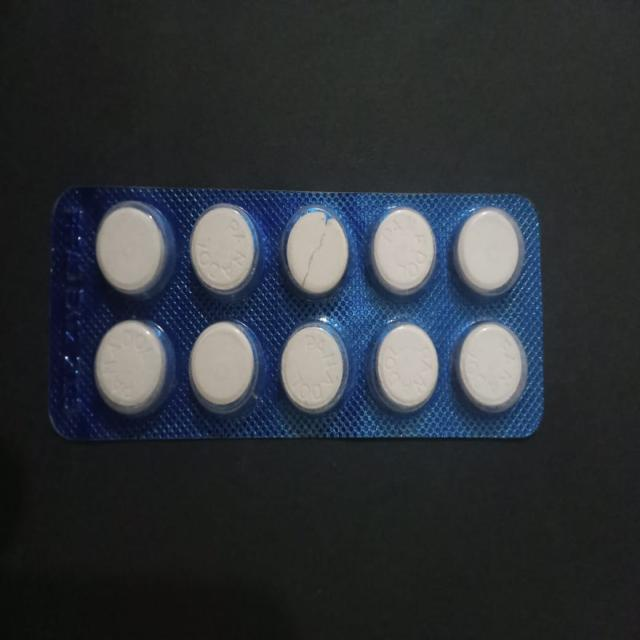defect: (280, 203, 352, 301)
